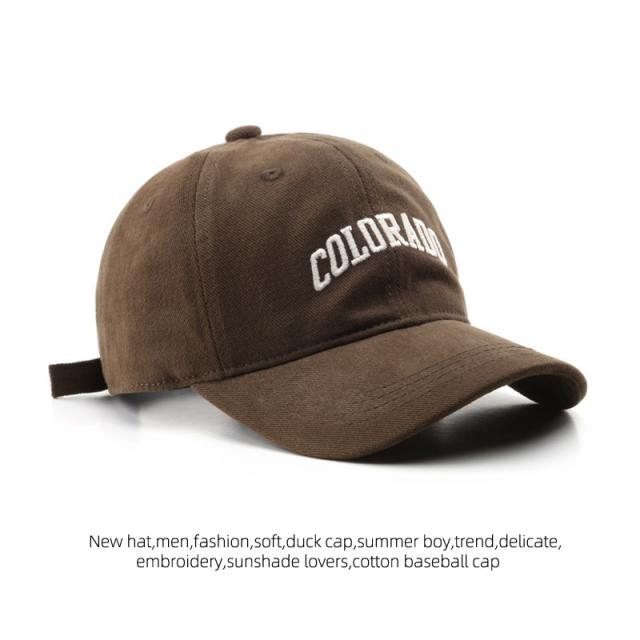Nonhelmet: (47, 121, 588, 462)
